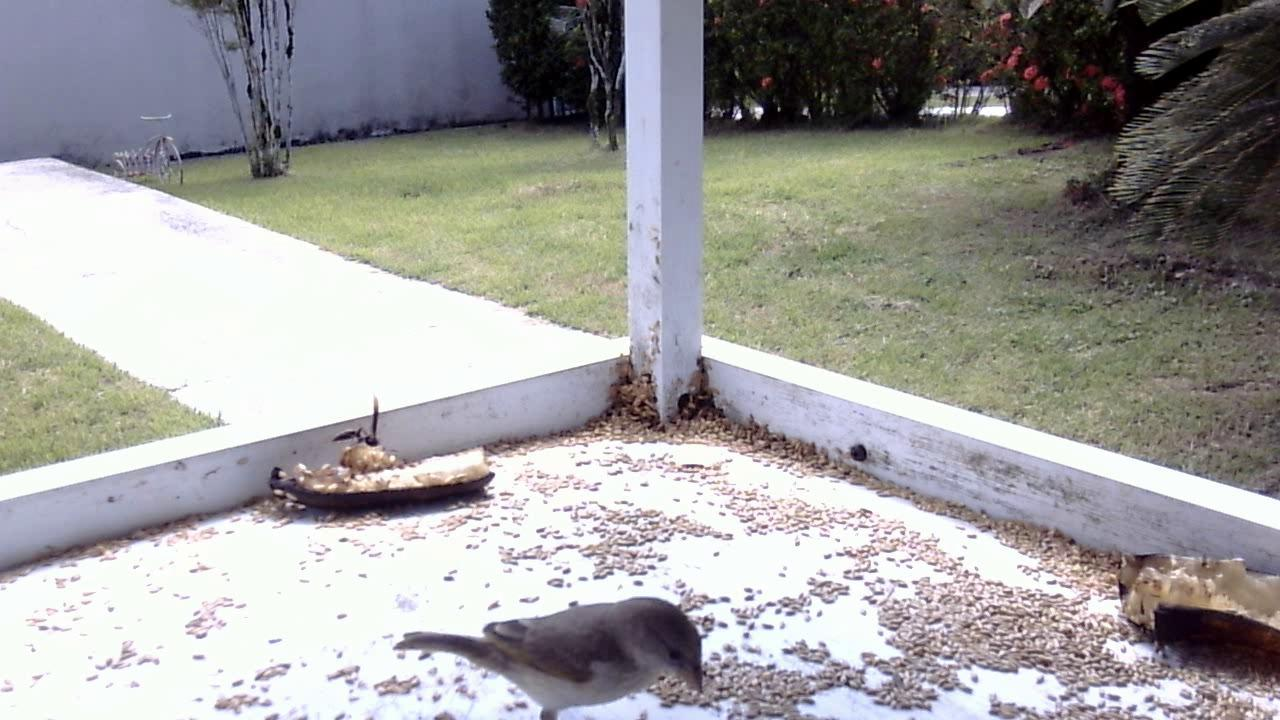canario_do_amazonas: (389, 593, 696, 720)
